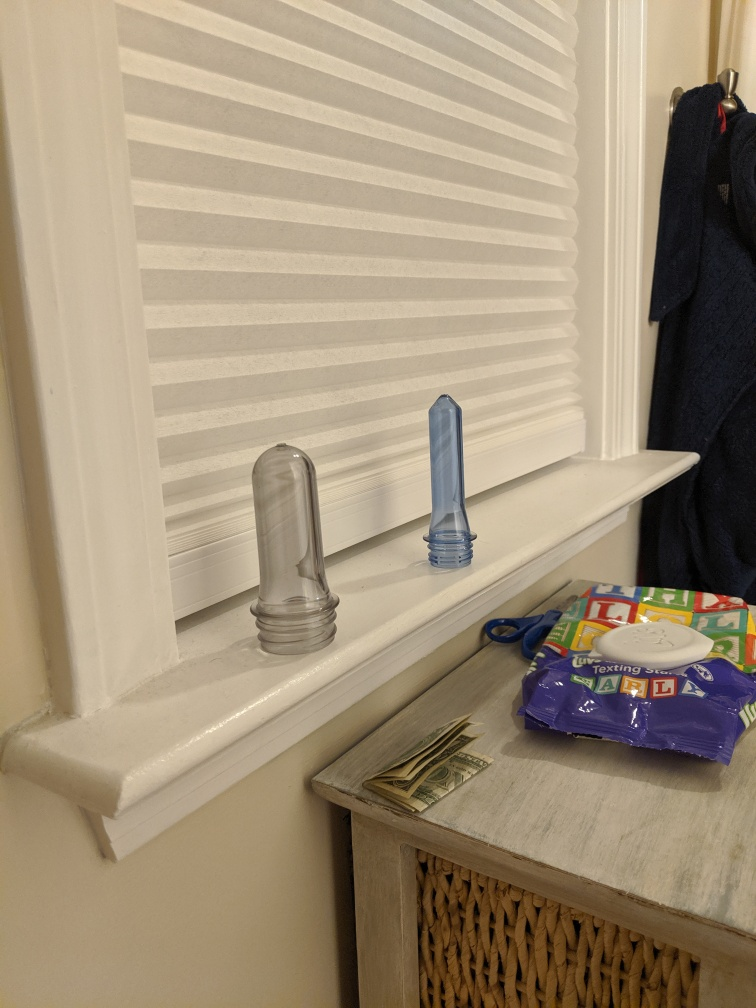preform: (239, 436, 350, 667), (417, 386, 484, 572)
